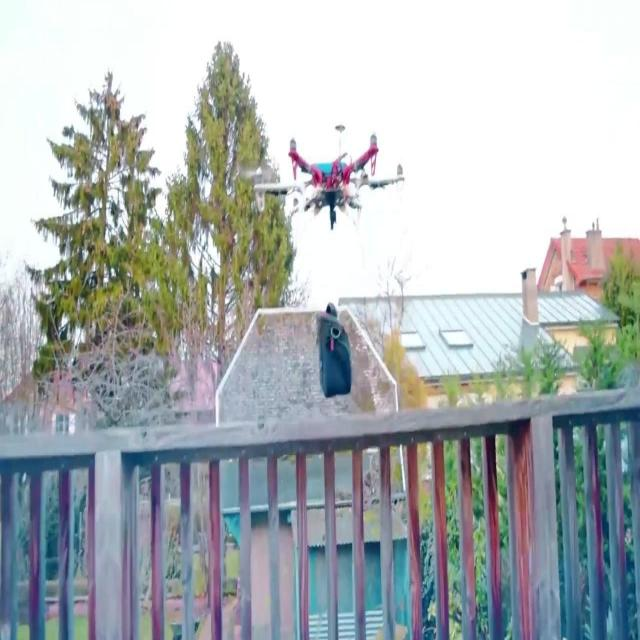UAV: (240, 124, 404, 230)
